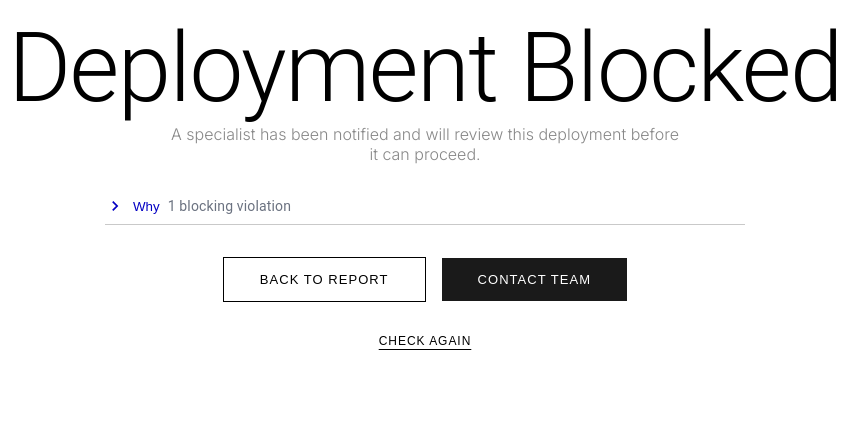
Test case: PrApprovalView › blocked state omits the toggle when every finding is already shown
What coordinates should you click on to do the following:
click the button "Why 1 blocking violation"
I would click on:
 (229, 206)
Its box is [105,196,745,225].
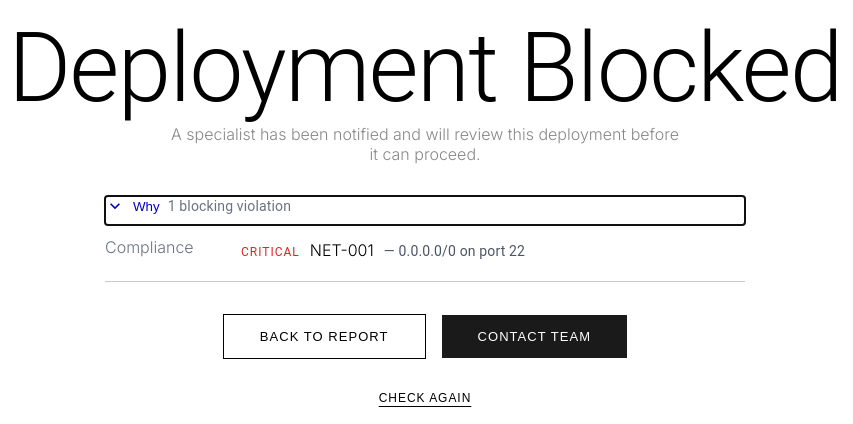
Expected: the text "NET-001" is shown, [310,240,374,260]
